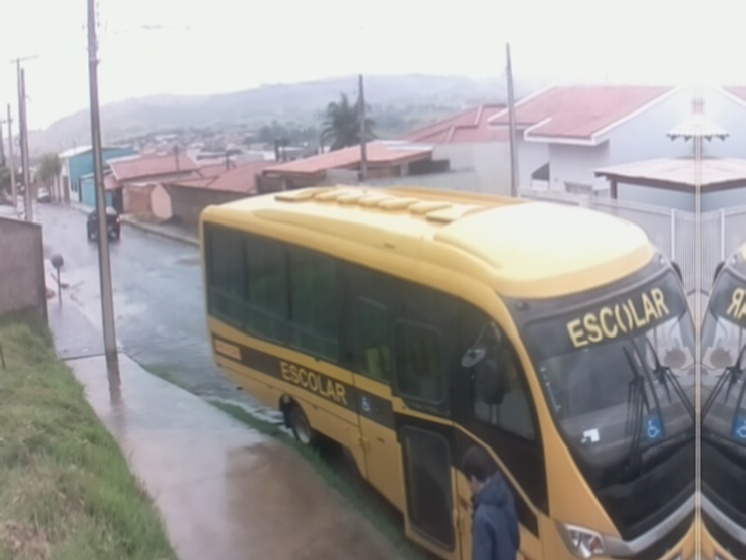person: (452, 444, 522, 560)
